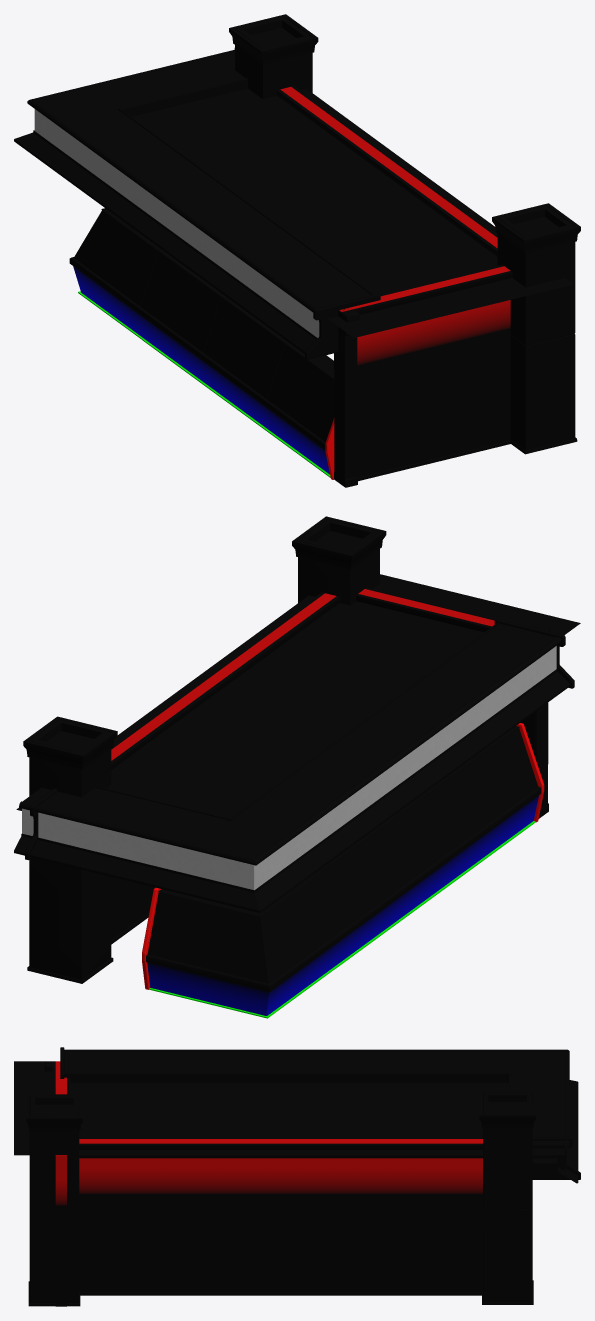
The model's file is Stall_06_merged.fbx.
3 views of the same model, one above another, from view 1: azimuth 30°, elevation 25°; view 2: azimuth 150°, elevation 25°; view 3: azimuth 270°, elevation 25° (orthographic). The views are drawn at different scales.
Visible parts, largest first — view 1: Stall_06_merged; view 2: Stall_06_merged; view 3: Stall_06_merged.
Part boxes in pixels (x1,y1,x2,y2): Stall_06_merged: (14, 14, 580, 487); Stall_06_merged: (14, 516, 580, 1018); Stall_06_merged: (14, 1047, 580, 1306).
Bounding box in the file's own units: 463 × 377 × 1019.
